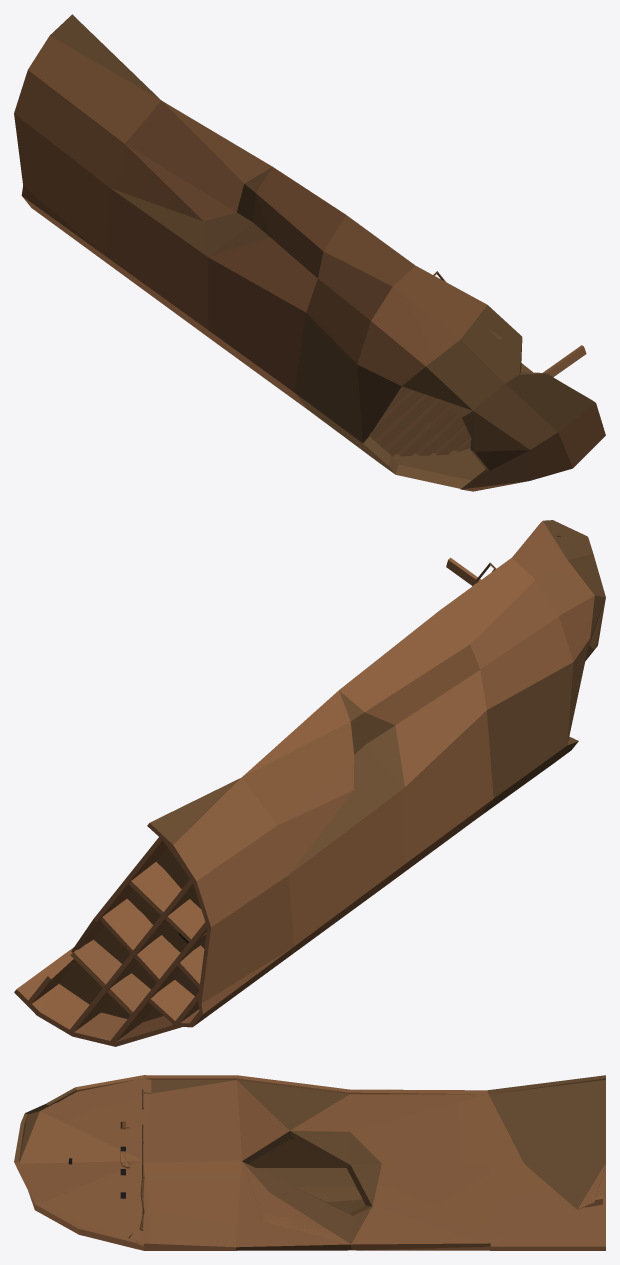
The model's file is apocalypse_ship-cargo- front-apocalypse.fbx.
3 views of the same model, one above another, from view 1: azimuth 30°, elevation 25°; view 2: azimuth 150°, elevation 25°; view 3: azimuth 270°, elevation 25° (orthographic). The views are drawn at different scales.
Visible parts, largest first — view 1: apocalypse_ship_cargo__front_apocalypse; view 2: apocalypse_ship_cargo__front_apocalypse; view 3: apocalypse_ship_cargo__front_apocalypse.
Boxes of the visible parts, x1=… form: apocalypse_ship_cargo__front_apocalypse: x1=14, y1=14, x2=605, y2=491; apocalypse_ship_cargo__front_apocalypse: x1=14, y1=520, x2=605, y2=1046; apocalypse_ship_cargo__front_apocalypse: x1=14, y1=1075, x2=605, y2=1250.
Bounding box in the file's own units: 51.62 × 55.33 × 200.
